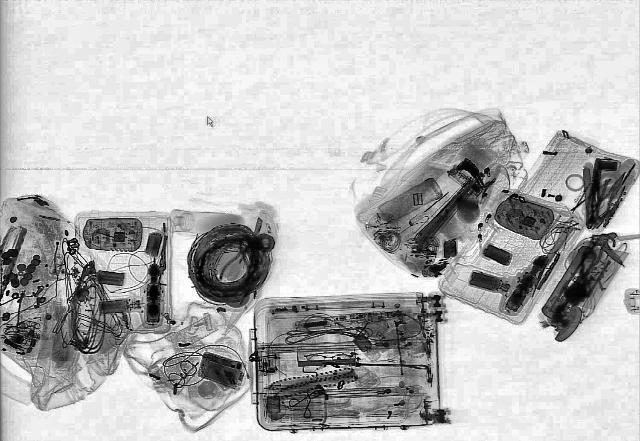Pliers: (569, 237, 609, 289), (218, 238, 262, 284)
